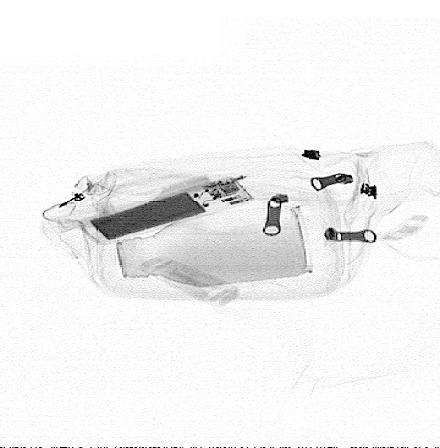Powerbank: (79, 174, 255, 246)
